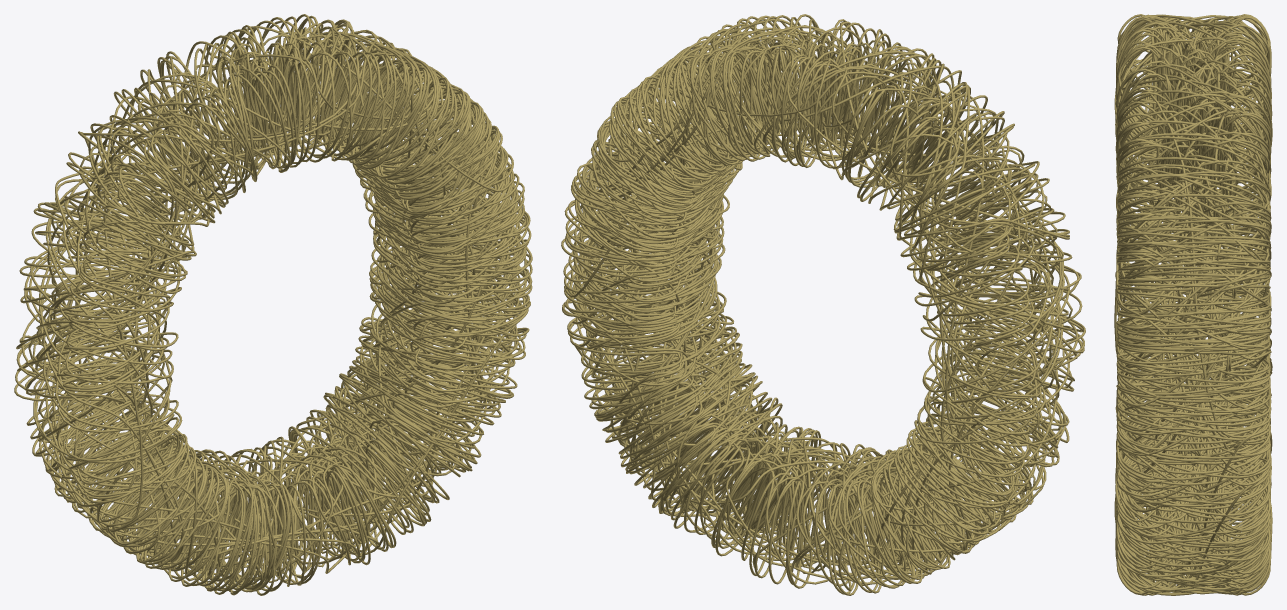
3 renders of one model, left to right at view 1: azimuth 30°, elevation 25°; view 2: azimuth 150°, elevation 25°; view 3: azimuth 270°, elevation 25°, orthographic.
Visible parts, largest first — view 1: letter_o; view 2: letter_o; view 3: letter_o.
Boxes of the visible parts, left/top/right/bottom form: letter_o: left=14, top=14, right=532, bottom=595; letter_o: left=561, top=14, right=1085, bottom=595; letter_o: left=1114, top=14, right=1272, bottom=595.
Bounding box in the file's own units: 16.69 × 17.89 × 4.88.
